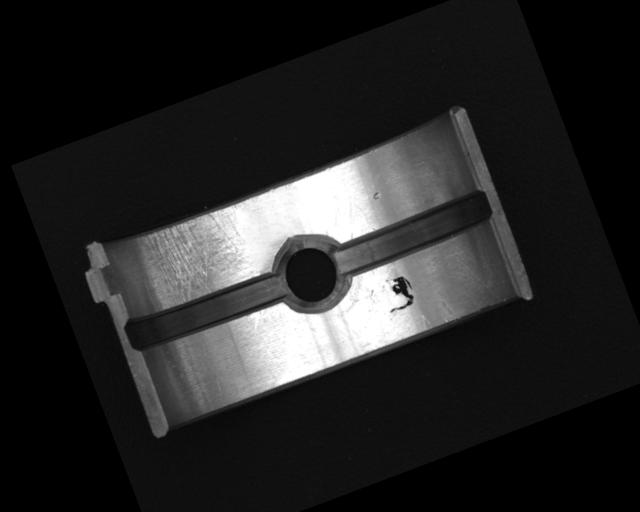blot: (376, 269, 420, 317)
bruise: (371, 190, 382, 201)
gap: (327, 184, 498, 281), (120, 265, 289, 356)
hole: (260, 223, 358, 324)
nick: (247, 309, 267, 331)
scratch: (124, 199, 264, 316)
